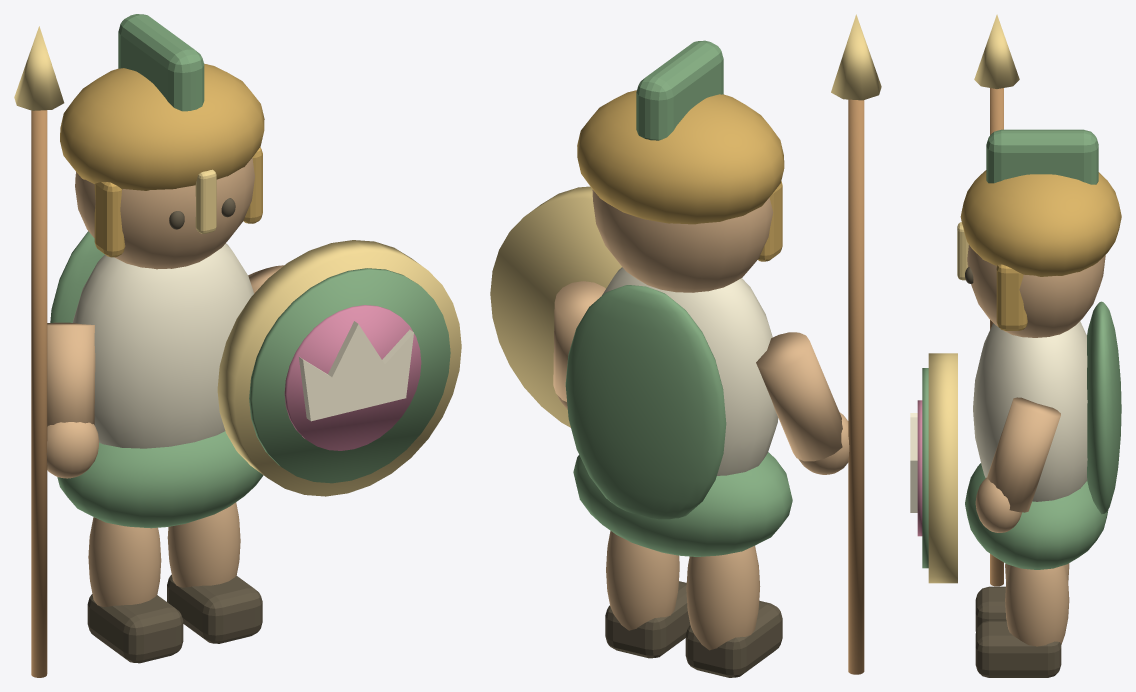
Rendered from clay.glb.
3 views of the same model, side by side, from view 1: azimuth 30°, elevation 25°; view 2: azimuth 150°, elevation 25°; view 3: azimuth 270°, elevation 25° (orthographic). The views are drawn at different scales.
Parts seen in each view (by area): view 1: Soft tunic, Bronze helmet.004, Shield face.008, Shield rim.004, Soft green skirt, Spear shaft.004, Face.004, Shield face.009, Crown relief.004, Clay leg, Green crest.004, Arm.008 (+9 smaller); view 2: Clay cape, Bronze helmet.004, Shield rim.004, Soft green skirt, Soft tunic, Face.004, Spear shaft.004, Arm.008, Clay leg, Green crest.004, Clay leg.001, Sandal.006 (+5 smaller); view 3: Bronze helmet.004, Soft tunic, Soft green skirt, Shield rim.004, Clay cape, Face.004, Green crest.004, Arm.009, Clay leg.001, Sandal.007, Spear tip.004, Cheek guard.009 (+7 smaller).
Boxes of the visible parts, left/top/right/bottom form: Soft tunic: left=72, top=243, right=253, bottom=448; Bronze helmet.004: left=60, top=63, right=264, bottom=190; Shield face.008: left=249, top=268, right=450, bottom=483; Shield rim.004: left=217, top=240, right=461, bottom=496; Soft green skirt: left=57, top=431, right=263, bottom=528; Spear shaft.004: left=31, top=110, right=47, bottom=677; Face.004: left=75, top=158, right=254, bottom=269; Shield face.009: left=284, top=305, right=421, bottom=450; Crown relief.004: left=299, top=321, right=413, bottom=421; Clay leg: left=88, top=517, right=161, bottom=607; Green crest.004: left=118, top=14, right=204, bottom=111; Arm.008: left=47, top=322, right=95, bottom=426; Clay cape: left=565, top=285, right=726, bottom=519; Bronze helmet.004: left=577, top=90, right=784, bottom=224; Shield rim.004: left=490, top=186, right=621, bottom=427; Soft green skirt: left=573, top=452, right=792, bottom=556; Soft tunic: left=602, top=267, right=778, bottom=475; Face.004: left=592, top=189, right=773, bottom=292; Spear shaft.004: left=848, top=99, right=864, bottom=674; Arm.008: left=756, top=332, right=842, bottom=461; Clay leg: left=686, top=546, right=760, bottom=650; Green crest.004: left=636, top=40, right=723, bottom=140; Clay leg.001: left=606, top=531, right=679, bottom=630; Sandal.006: left=685, top=600, right=782, bottom=677; Bronze helmet.004: left=960, top=170, right=1121, bottom=276; Soft tunic: left=973, top=321, right=1087, bottom=501; Soft green skirt: left=965, top=463, right=1108, bottom=569; Shield rim.004: left=928, top=353, right=957, bottom=583; Clay cape: left=1087, top=301, right=1121, bottom=514; Face.004: left=967, top=245, right=1105, bottom=337; Green crest.004: left=986, top=129, right=1098, bottom=184; Arm.009: left=987, top=397, right=1060, bottom=512; Clay leg.001: left=1005, top=565, right=1069, bottom=646; Sandal.007: left=975, top=620, right=1061, bottom=677; Spear tip.004: left=974, top=14, right=1019, bottom=88; Cheek guard.009: left=996, top=264, right=1027, bottom=330.
Bounding box in the file's own units: 1.54 × 2.37 × 0.7897.
